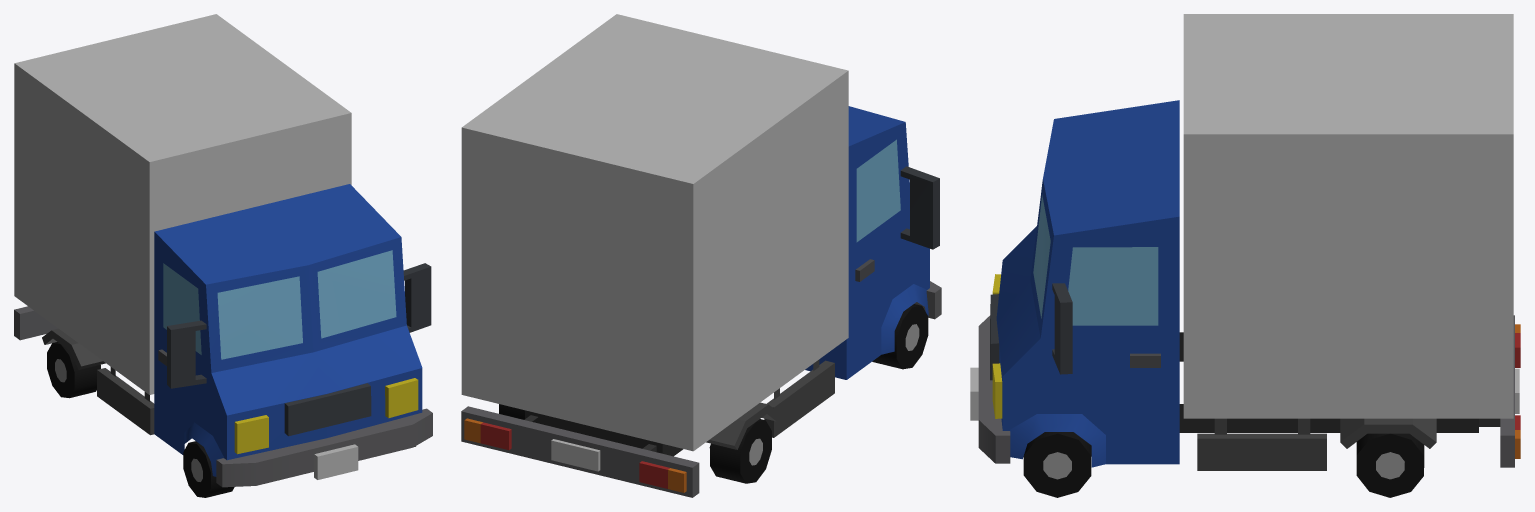
The model's file is Car_08_blue.fbx.
3 views of the same model, side by side, from view 1: azimuth 30°, elevation 25°; view 2: azimuth 150°, elevation 25°; view 3: azimuth 270°, elevation 25° (orthographic). The views are drawn at different scales.
Visible parts, largest first — view 1: Car_08_blue; view 2: Car_08_blue; view 3: Car_08_blue.
Boxes of the visible parts, box(x1,y1,x2,y2) form: Car_08_blue: box(14, 14, 432, 497); Car_08_blue: box(461, 14, 941, 497); Car_08_blue: box(970, 14, 1520, 497).
Size of the model in its own units: 65.03 by 70.59 by 97.45.
